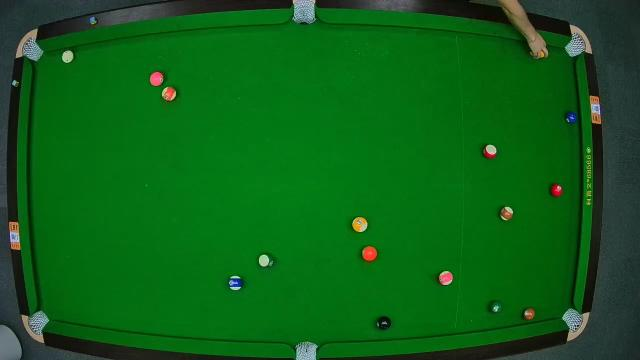bag1: (24, 40, 40, 62)
bag2: (292, 2, 316, 22)
bag3: (566, 34, 584, 56)
bag4: (27, 310, 49, 336)
bag5: (295, 342, 319, 360)
bag6: (562, 308, 584, 332)
ball0: (62, 49, 78, 65)
ball10: (227, 276, 245, 292)
ball11: (482, 144, 500, 160)
ball12: (438, 270, 454, 286)
ball13: (162, 86, 178, 104)
ball14: (258, 252, 276, 268)
ball15: (500, 204, 514, 222)
ball2: (565, 110, 579, 126)
ball3: (550, 182, 564, 198)
ball4: (148, 71, 166, 87)
ball5: (360, 246, 378, 262)
ball6: (488, 300, 504, 314)
ball7: (522, 306, 536, 322)
ball8: (376, 315, 392, 331)
ball9: (352, 216, 368, 234)
